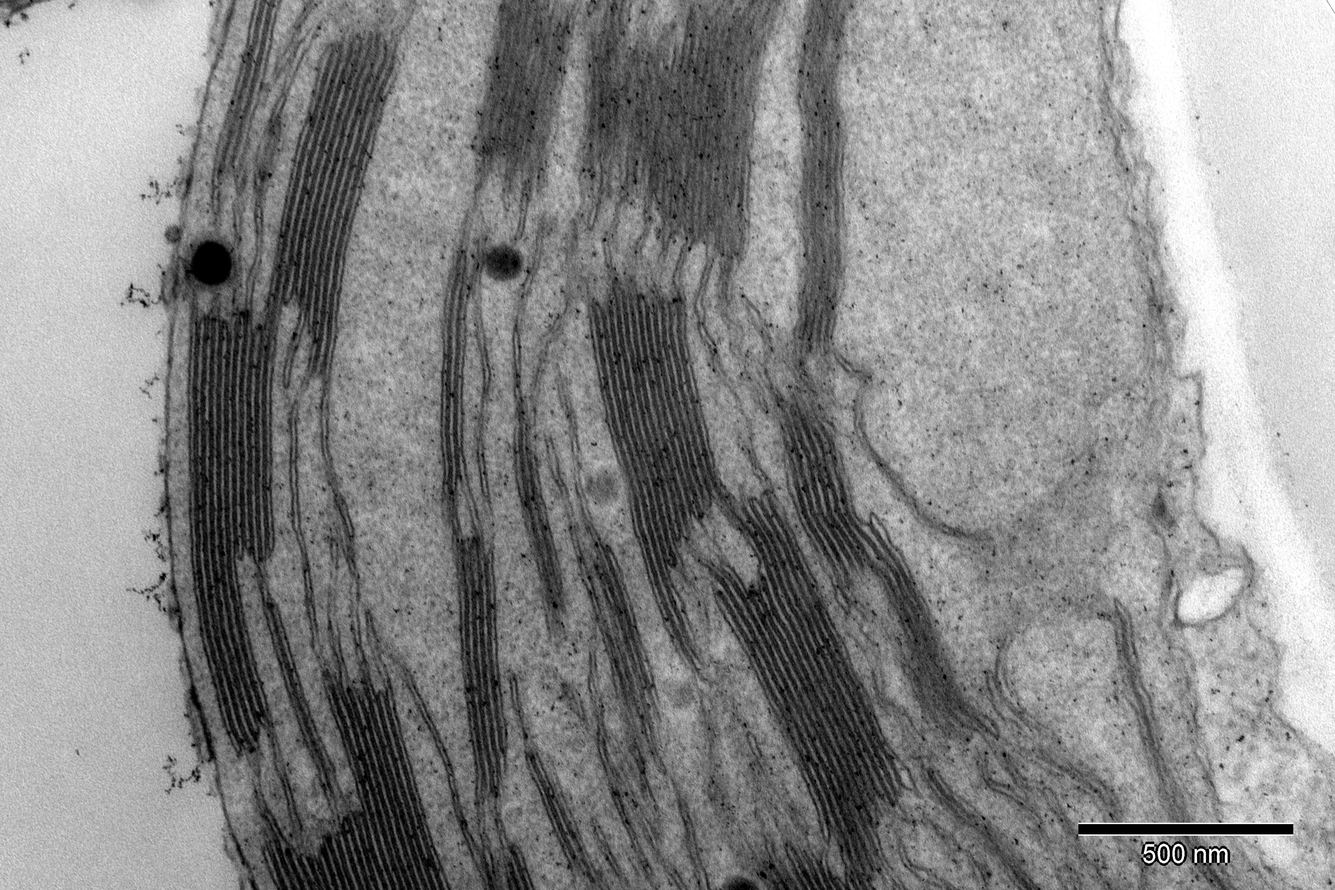granum: (709, 487, 927, 890), (584, 274, 729, 677), (573, 0, 789, 266), (265, 27, 406, 381), (185, 308, 282, 756), (259, 682, 453, 889), (776, 383, 909, 597), (788, 0, 861, 358), (876, 562, 995, 749), (466, 0, 586, 174), (578, 539, 663, 734), (449, 532, 510, 802), (211, 0, 283, 176), (523, 750, 613, 890), (509, 423, 570, 619), (438, 261, 481, 496), (752, 839, 850, 890), (500, 841, 535, 890)
